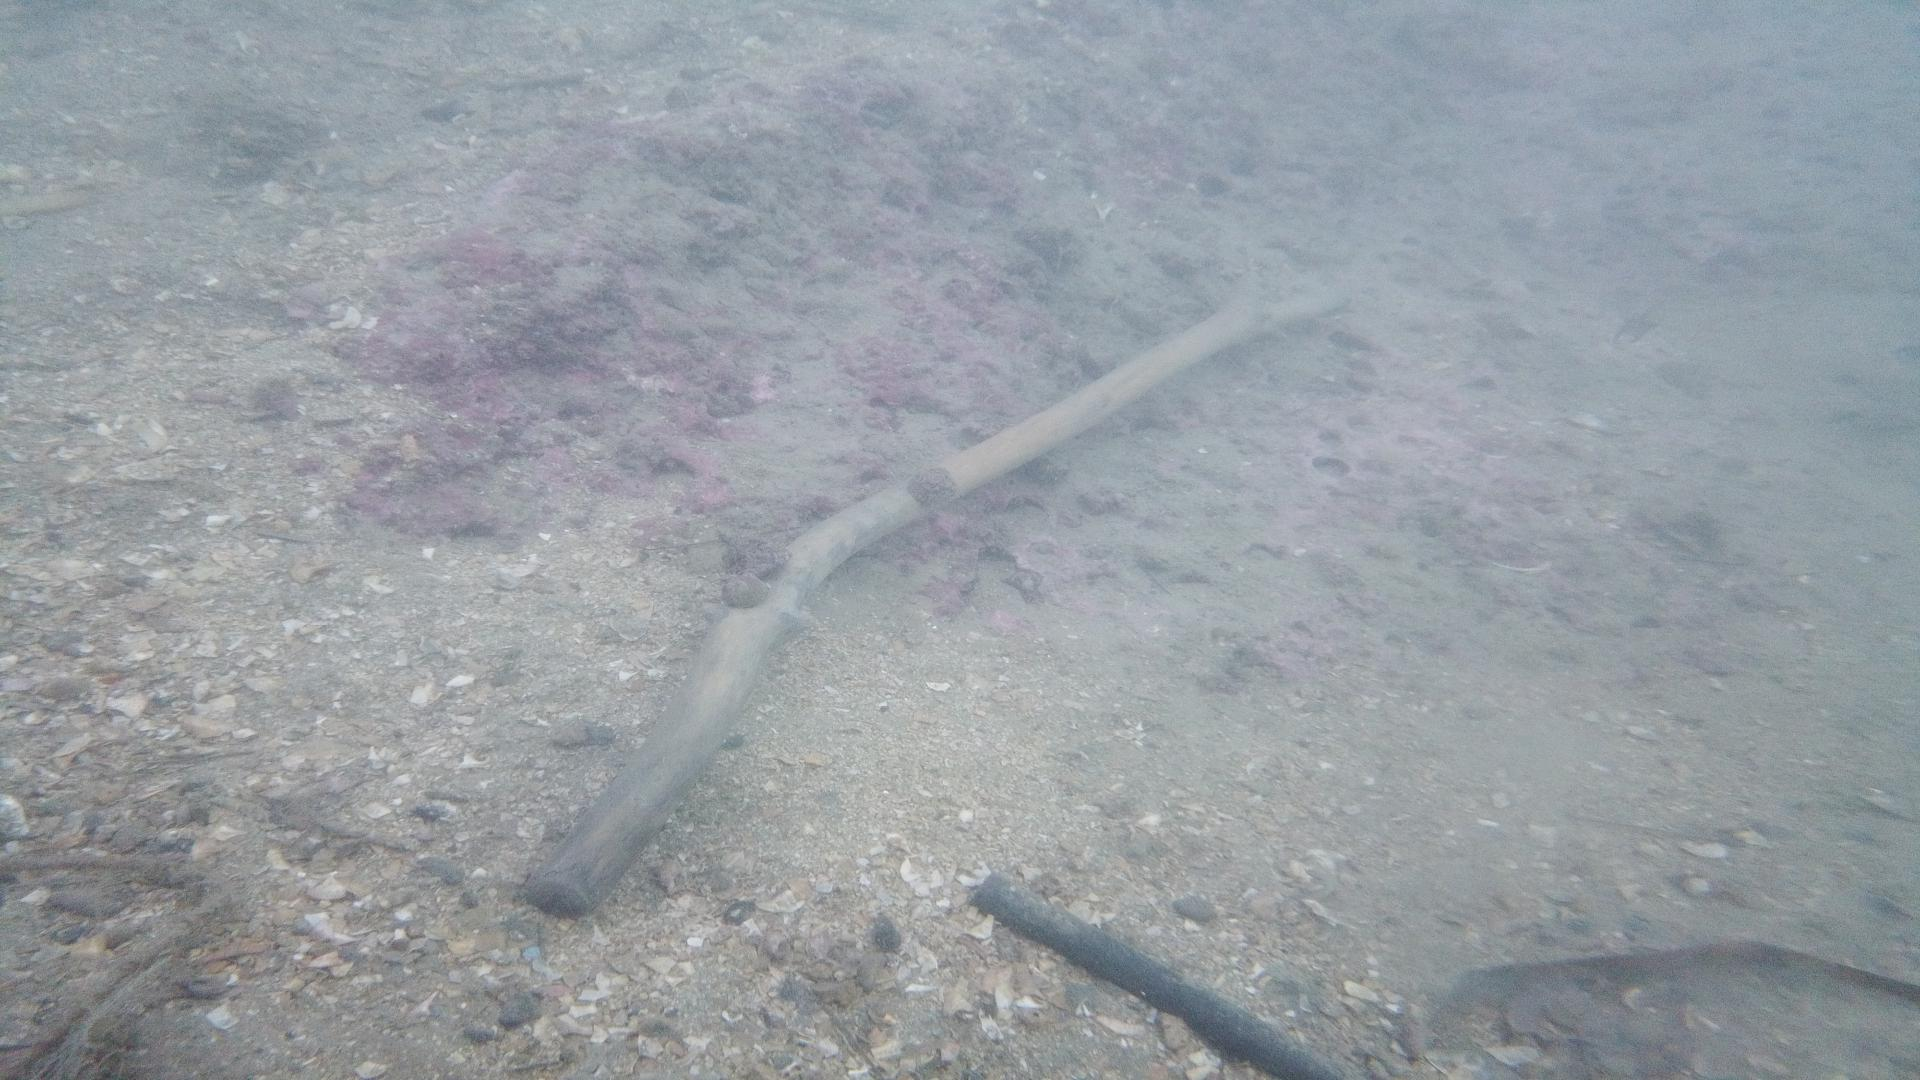wood: (521, 281, 1352, 918)
